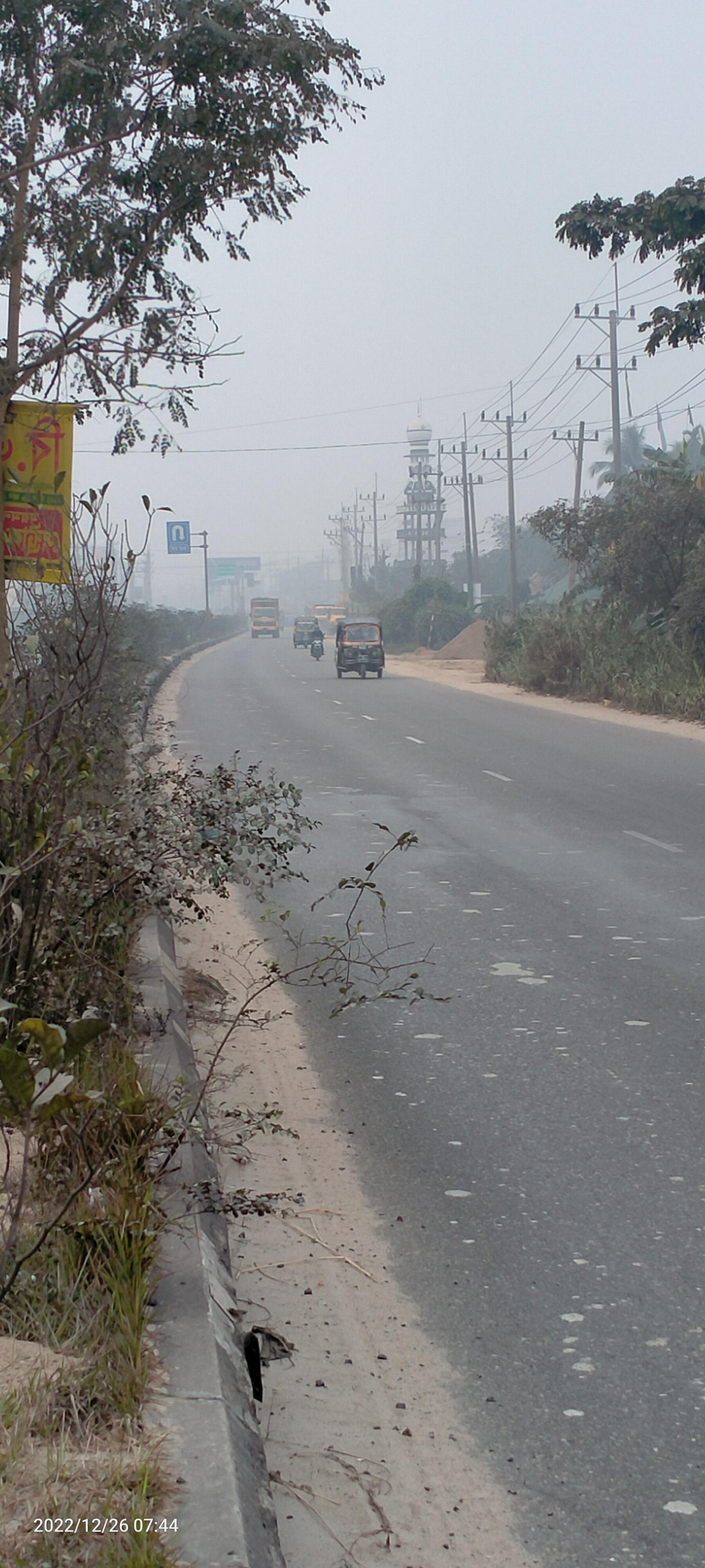Bike: (307, 625, 327, 666)
Truck: (240, 591, 288, 648)
